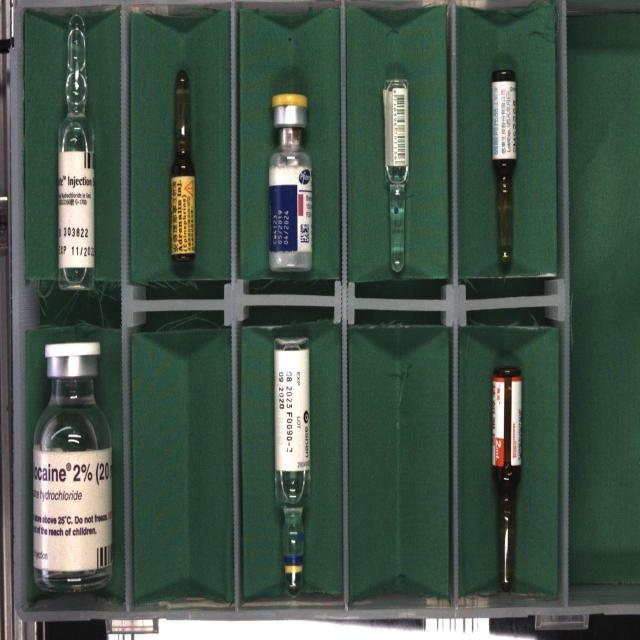Vials: (33, 342, 112, 591), (33, 342, 111, 588), (269, 93, 312, 270)
